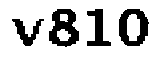0: (117, 4, 148, 48)
1: (86, 8, 110, 48)
8: (47, 6, 80, 51)
v: (10, 16, 44, 49)
